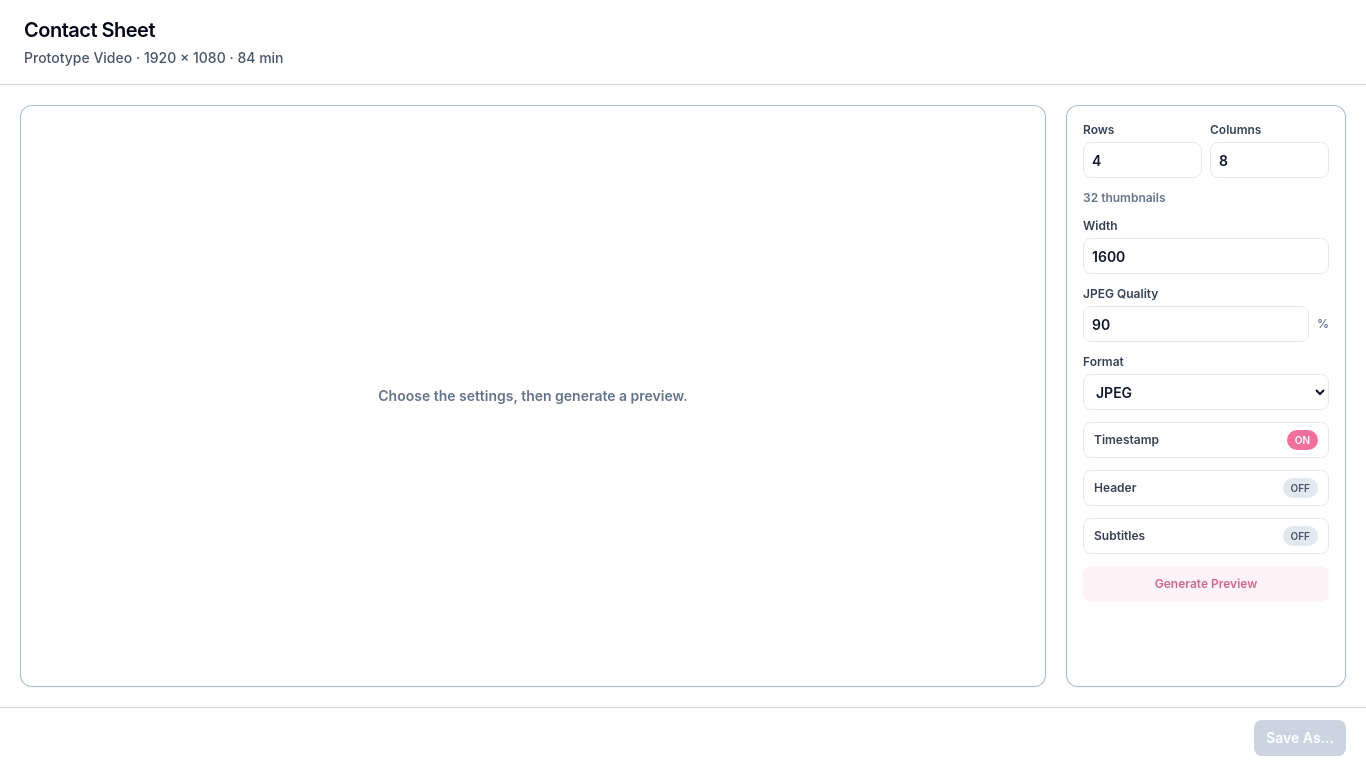
Test: ContactSheetWindow › requests a bounded real preview and saves it through explicit Save As
Click the button "Generate Preview". click: [1206, 584]
box: [1083,566,1329,602]
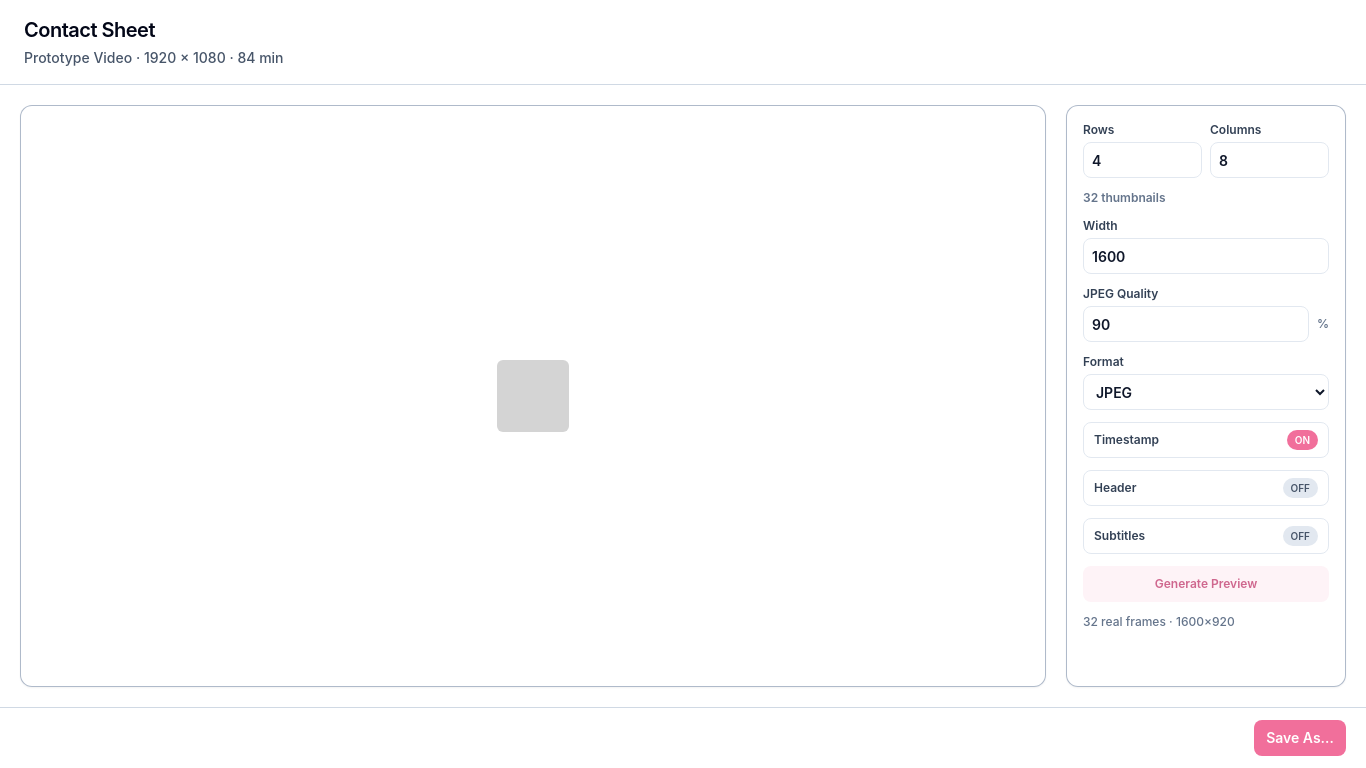
Result: the text with test id "contact-sheet-frame-count" shows "32 real frames" at [1083,614,1235,629]
Click the button "Save As…". click: [1300, 738]
box: [1254,720,1346,756]
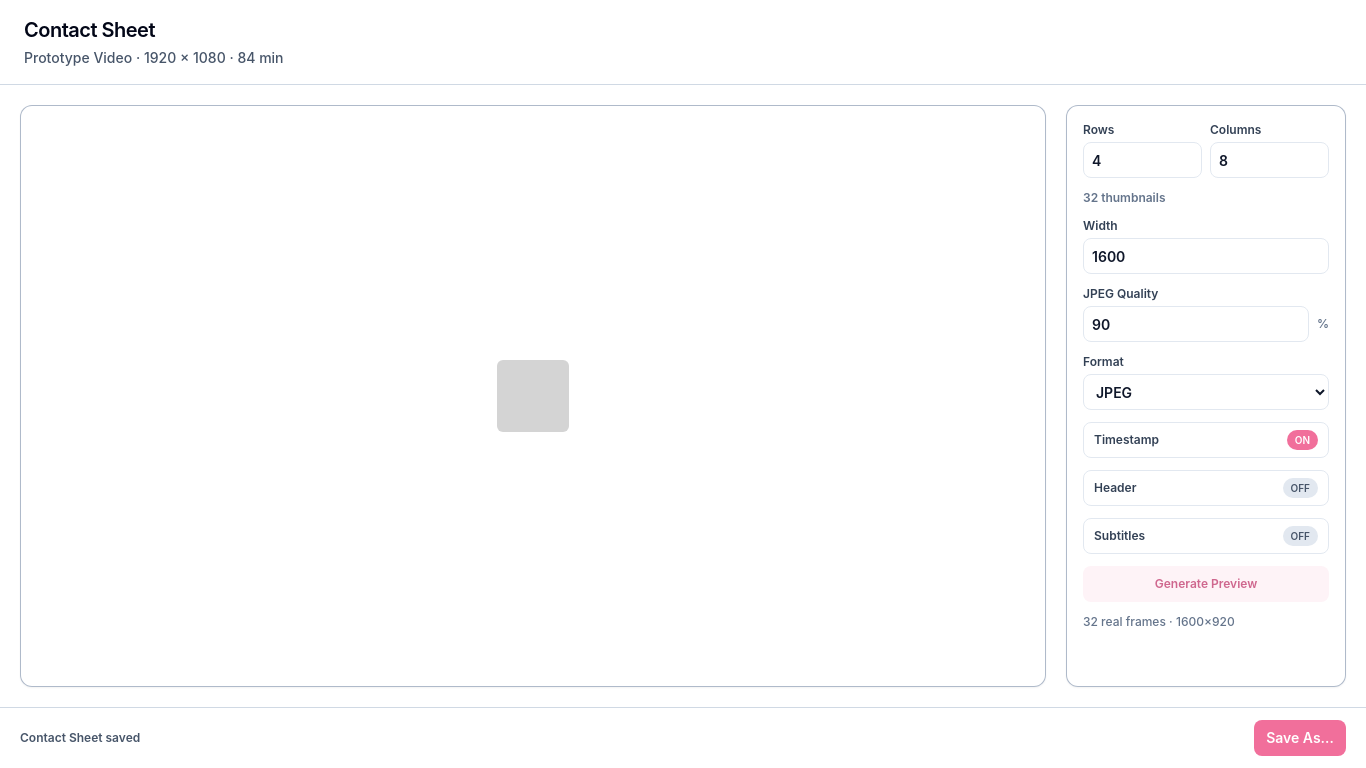
Result: the message reads "Contact Sheet saved" at [20,730,140,745]
